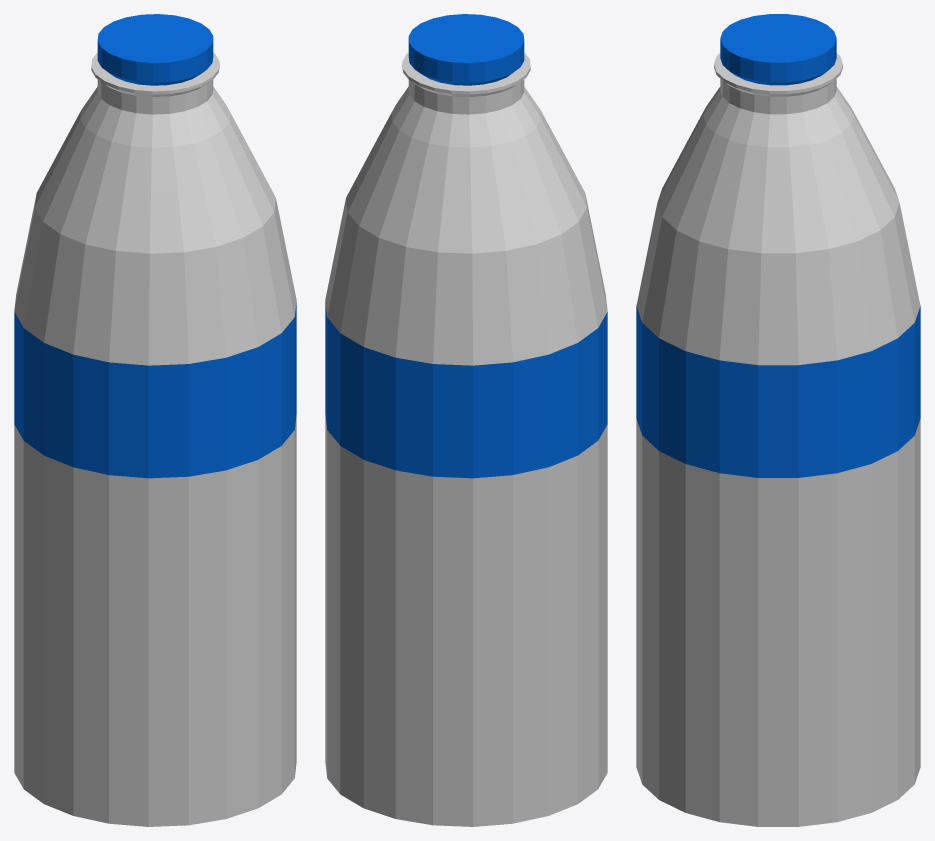
The model's file is Bottle.fbx.
The picture shows the model from 3 angles, left to right: view 1: azimuth 30°, elevation 25°; view 2: azimuth 150°, elevation 25°; view 3: azimuth 270°, elevation 25°; orthographic projection.
Visible parts, largest first — view 1: Cylinder; view 2: Cylinder; view 3: Cylinder.
Part boxes in pixels (bbox=[...]): Cylinder: bbox=[14, 14, 296, 826]; Cylinder: bbox=[325, 14, 607, 826]; Cylinder: bbox=[636, 14, 920, 826].
Bounding box in the file's own units: 198 × 567 × 200.
